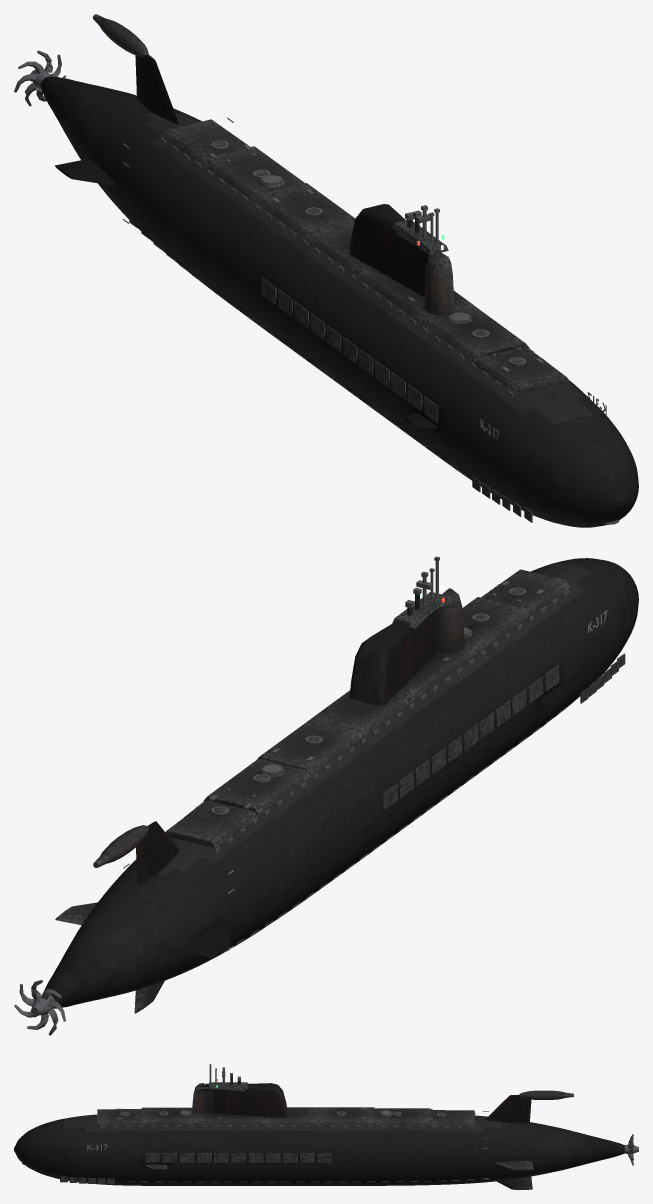
The model's file is enemy_submarine.glb.
The picture shows the model from 3 angles, top to bottom: view 1: azimuth 30°, elevation 25°; view 2: azimuth 150°, elevation 25°; view 3: azimuth 270°, elevation 25°; orthographic projection. The views are drawn at different scales.
Visible parts, largest first — view 1: sub_hull, sub_sail, sub_detail; view 2: sub_hull, sub_sail, sub_detail; view 3: sub_hull, sub_sail, sub_detail.
Part boxes in pixels (x1,y1,x2,y2): sub_hull: (40, 76, 638, 527); sub_sail: (14, 14, 569, 428); sub_detail: (123, 117, 619, 524); sub_hull: (44, 558, 638, 1008); sub_sail: (14, 561, 569, 1035); sub_detail: (123, 556, 625, 952); sub_hull: (14, 1114, 624, 1185); sub_sail: (97, 1066, 638, 1189); sub_detail: (22, 1064, 488, 1184).
Bounding box in the file's own units: 17.45 × 24.85 × 113.
Materials: 7 (7 with a texture image).
